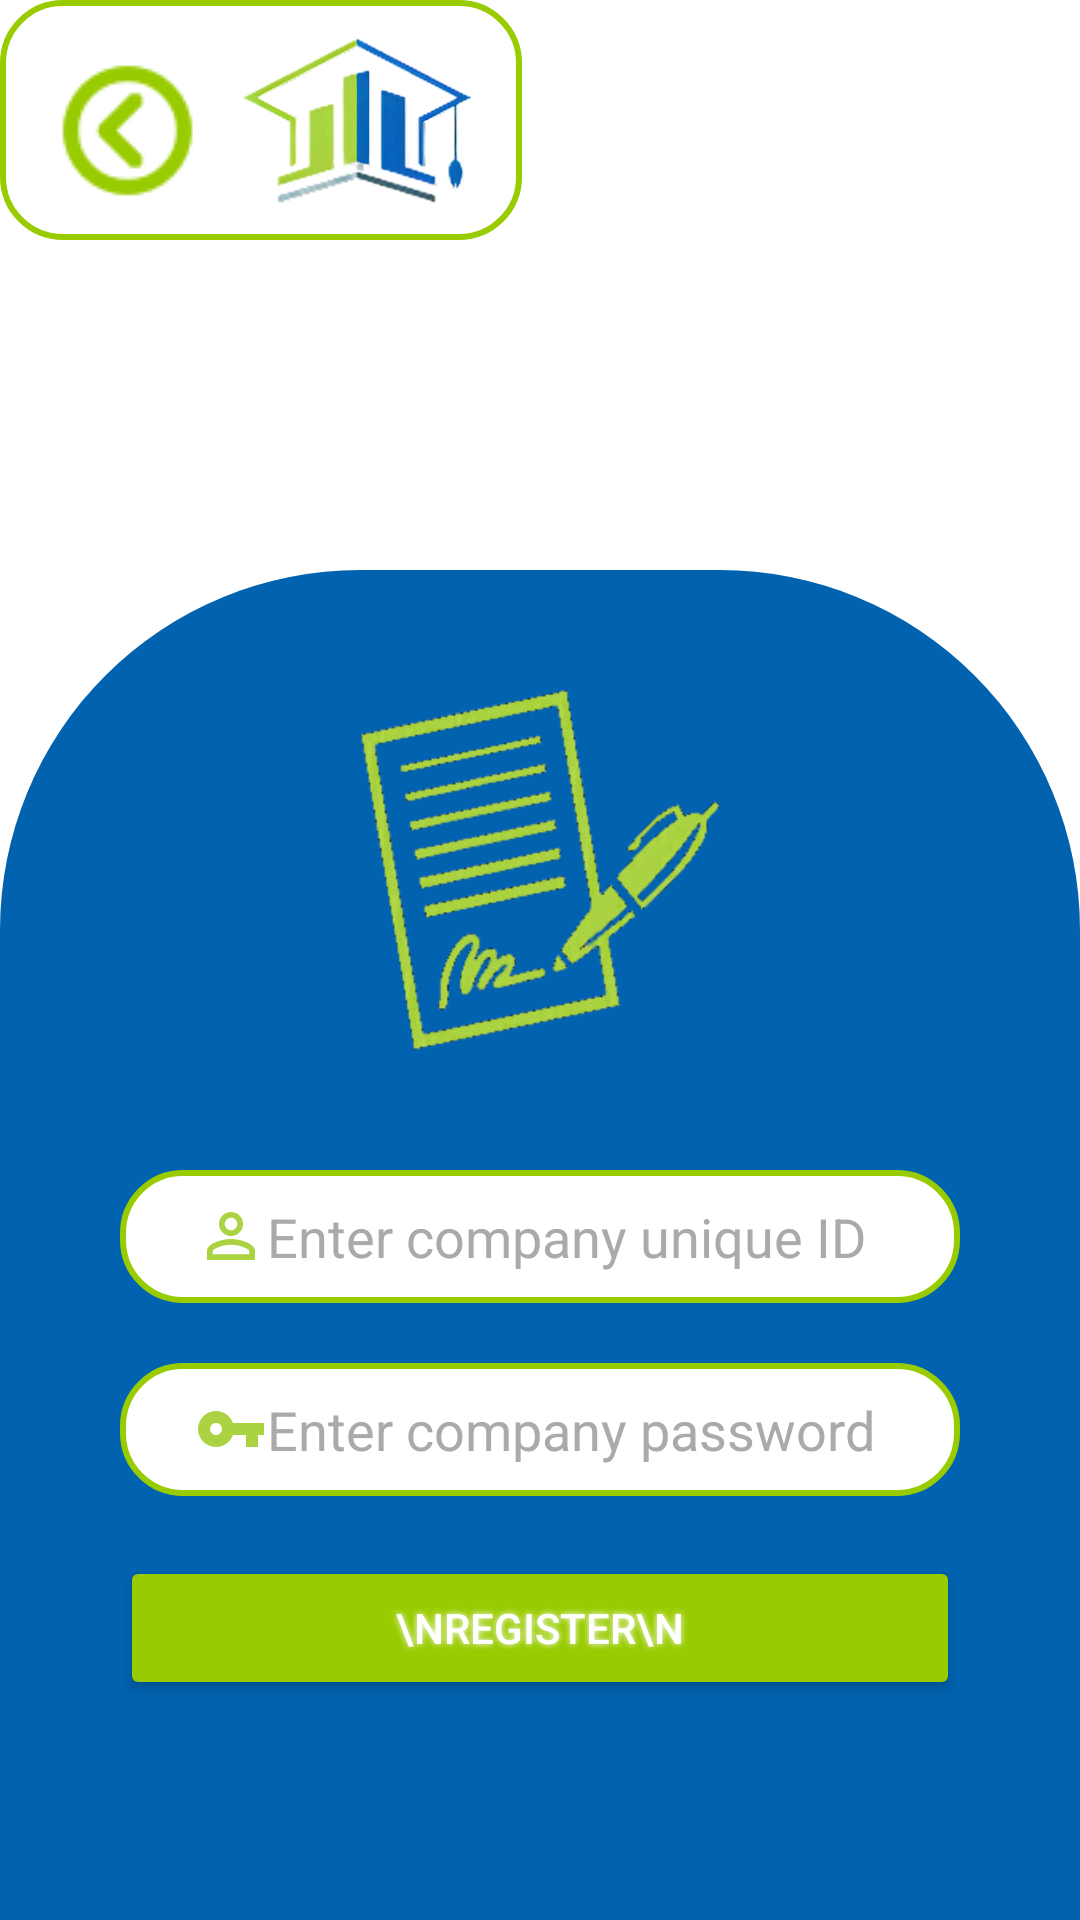

Icons on this 1080w x 1920h Android screen, each with the point to tap as [x,y]:
back: [127,130]
